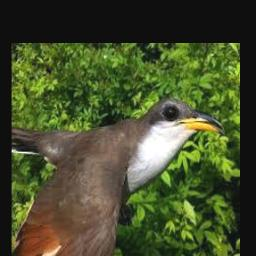Cuckoo: (12, 98, 224, 256)
